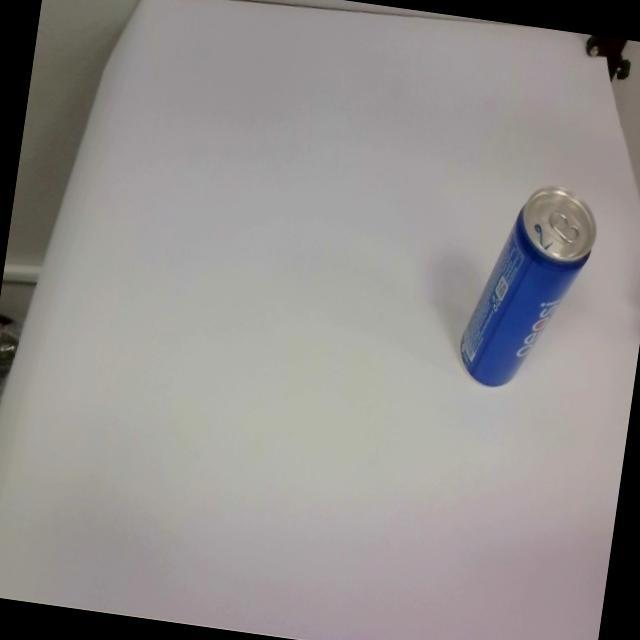debris: (454, 176, 602, 399)
